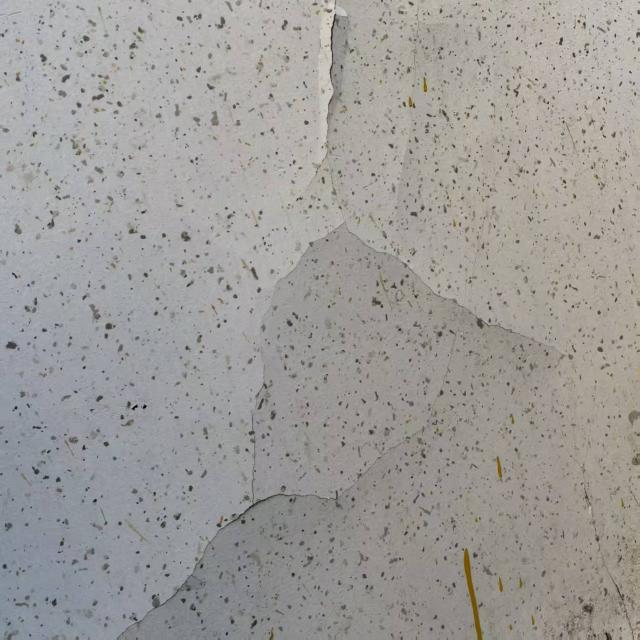crack: (547, 392, 639, 635)
hollowing: (94, 9, 587, 635), (313, 3, 352, 169)
